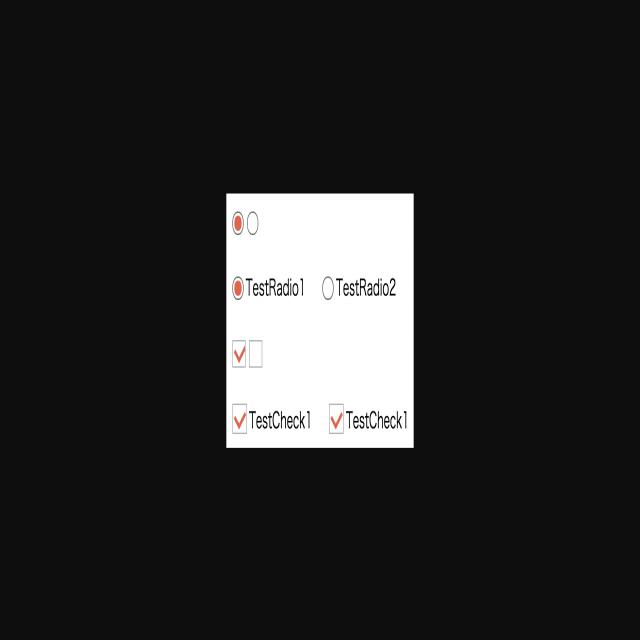checkbox: (232, 400, 248, 436), (328, 401, 345, 434), (232, 338, 247, 370)
radio: (231, 274, 244, 300), (232, 207, 243, 234)
